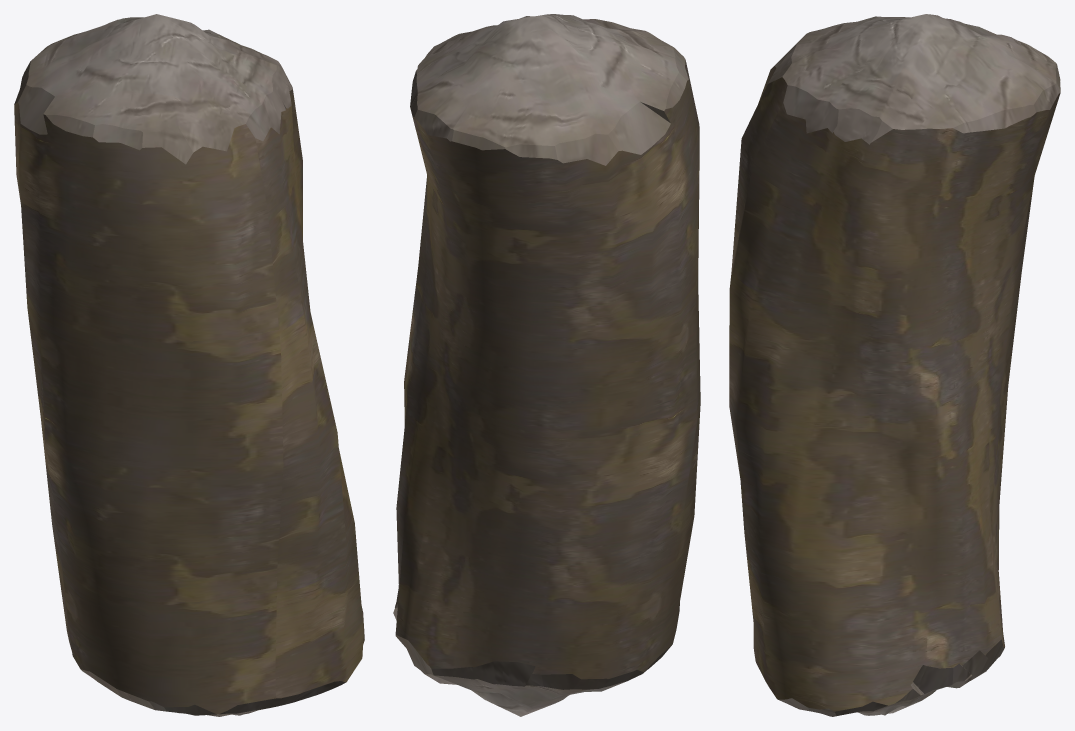
The picture shows the model from 3 angles, left to right: view 1: azimuth 30°, elevation 25°; view 2: azimuth 150°, elevation 25°; view 3: azimuth 270°, elevation 25°; orthographic projection. The views are drawn at different scales.
Parts seen in each view (by area): view 1: SM_Yew_03_quarter_03_LOD0; view 2: SM_Yew_03_quarter_03_LOD0; view 3: SM_Yew_03_quarter_03_LOD0.
Boxes of the visible parts, x1=… form: SM_Yew_03_quarter_03_LOD0: x1=14, y1=14, x2=364, y2=716; SM_Yew_03_quarter_03_LOD0: x1=393, y1=14, x2=700, y2=716; SM_Yew_03_quarter_03_LOD0: x1=729, y1=14, x2=1060, y2=716.
Bounding box in the file's own units: 0.8235 × 1.9 × 0.8326.
1 material, 1 textured.
